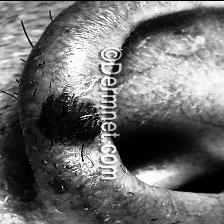Potentially Malignant Skin Tumors: (42, 93, 104, 141)
